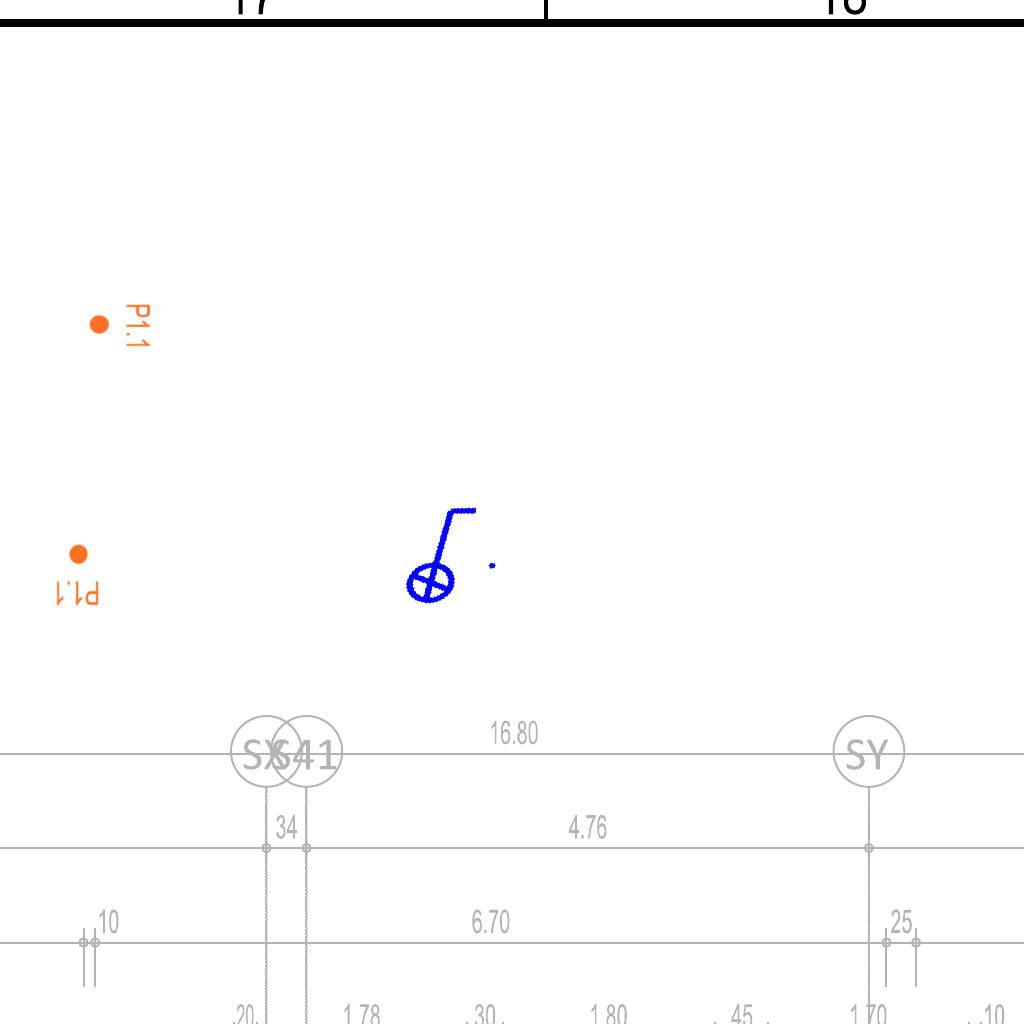Ausschalter_beleuchtet: (372, 491, 508, 615)
Downlight_LED_Einbauleuchten_Flur: (54, 543, 100, 607), (88, 303, 152, 349)
